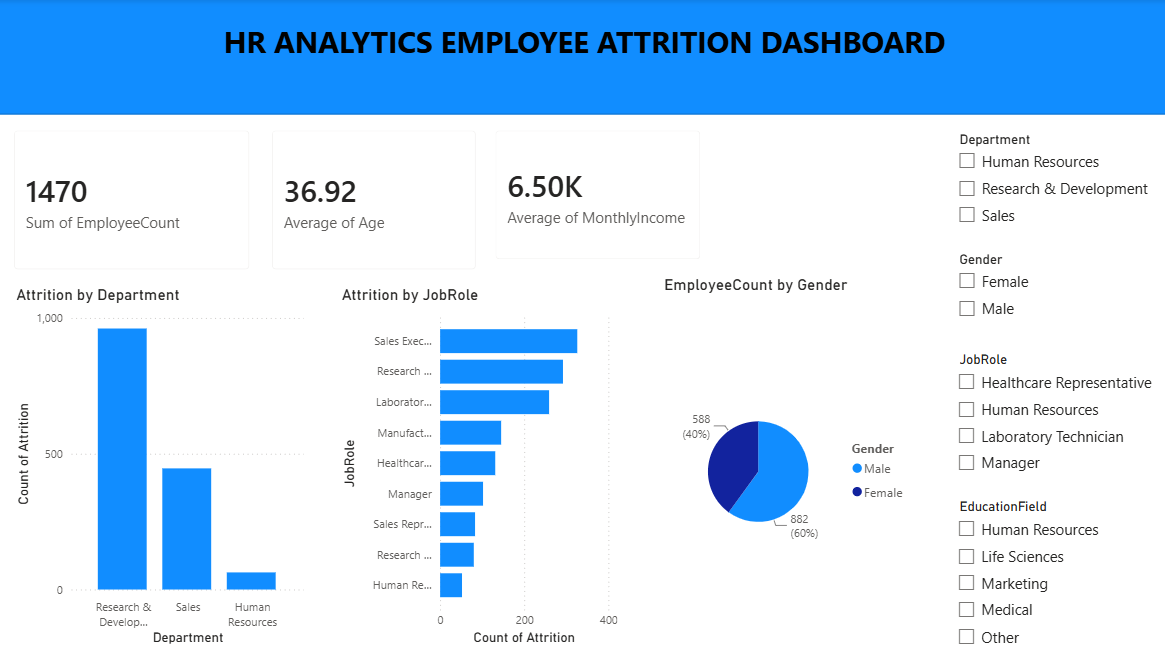

The dashboard page shown, as its layout file describes it:
{"tool":"powerbi","page":{"name":"Page 1","canvas":[1280,720],"ordinal":0},"visuals":[{"type":"cardVisual","fields":{"Data":["Sum(WA_Fn-UseC_-HR-Employee-Attriti.EmployeeCount)"]},"box":[0,124.7,288.2,184.6],"z":0},{"type":"cardVisual","fields":{"Data":["Avg(WA_Fn-UseC_-HR-Employee-Attriti.Age)"]},"box":[278.5,124.7,254.2,184.6],"z":1000},{"type":"cardVisual","fields":{"Data":["Avg(WA_Fn-UseC_-HR-Employee-Attriti.MonthlyIncome)"]},"box":[519.8,124.7,255.8,173.3],"z":2000},{"type":"clusteredColumnChart","title":" Attrition by Department","fields":{"Category":["WA_Fn-UseC_-HR-Employee-Attriti.Department"],"Y":["CountNonNull(WA_Fn-UseC_-HR-Employee-Attriti.Attrition)"]},"box":[14.6,309.3,320.6,391.9],"z":3000},{"type":"slicer","fields":{"Values":["WA_Fn-UseC_-HR-Employee-Attriti.Department"]},"box":[1024.3,138,255.1,185.2],"z":4000},{"type":"slicer","fields":{"Values":["WA_Fn-UseC_-HR-Employee-Attriti.Gender"]},"box":[1024.3,266.5,255.1,149.3],"z":5000},{"type":"slicer","fields":{"Values":["WA_Fn-UseC_-HR-Employee-Attriti.JobRole"]},"box":[1024.3,376.1,255.1,149.3],"z":6000},{"type":"slicer","fields":{"Values":["WA_Fn-UseC_-HR-Employee-Attriti.EducationField"]},"box":[1024.3,534.8,255.1,185.2],"z":7000},{"type":"barChart","title":" Attrition by JobRole","fields":{"Category":["WA_Fn-UseC_-HR-Employee-Attriti.JobRole"],"Y":["CountNonNull(WA_Fn-UseC_-HR-Employee-Attriti.Attrition)"]},"box":[365.9,309.3,307.7,391.9],"z":8000},{"type":"pieChart","title":"EmployeeCount by Gender","fields":{"Category":["WA_Fn-UseC_-HR-Employee-Attriti.Gender"],"Y":["Sum(WA_Fn-UseC_-HR-Employee-Attriti.EmployeeCount)"]},"box":[714.1,297.9,278.5,403.2],"z":9000},{"type":"textbox","box":[0,0,1279.4,124.7],"z":10000},{"type":"shape","box":[0,0,1279.4,124.7],"z":11000},{"type":"textbox","box":[0,0,1279.2,124.7],"z":12000}]}

Visuals, with their boxes in screenshot pixels (x1, y1, x2, y2), scaled from the page's 1280x720 canvas onto the 1165x655 screenshot:
cardVisual - Sum(WA_Fn-UseC_-HR-Employee-Attriti.EmployeeCount): left=0, top=113, right=262, bottom=281
cardVisual - Avg(WA_Fn-UseC_-HR-Employee-Attriti.Age): left=253, top=113, right=485, bottom=281
cardVisual - Avg(WA_Fn-UseC_-HR-Employee-Attriti.MonthlyIncome): left=473, top=113, right=706, bottom=271
" Attrition by Department" clusteredColumnChart: left=13, top=281, right=305, bottom=638
slicer - WA_Fn-UseC_-HR-Employee-Attriti.Department: left=932, top=126, right=1164, bottom=294
slicer - WA_Fn-UseC_-HR-Employee-Attriti.Gender: left=932, top=242, right=1164, bottom=378
slicer - WA_Fn-UseC_-HR-Employee-Attriti.JobRole: left=932, top=342, right=1164, bottom=478
slicer - WA_Fn-UseC_-HR-Employee-Attriti.EducationField: left=932, top=487, right=1164, bottom=654
" Attrition by JobRole" barChart: left=333, top=281, right=613, bottom=638
"EmployeeCount by Gender" pieChart: left=650, top=271, right=903, bottom=638
textbox: left=0, top=0, right=1164, bottom=113
shape: left=0, top=0, right=1164, bottom=113
textbox: left=0, top=0, right=1164, bottom=113
